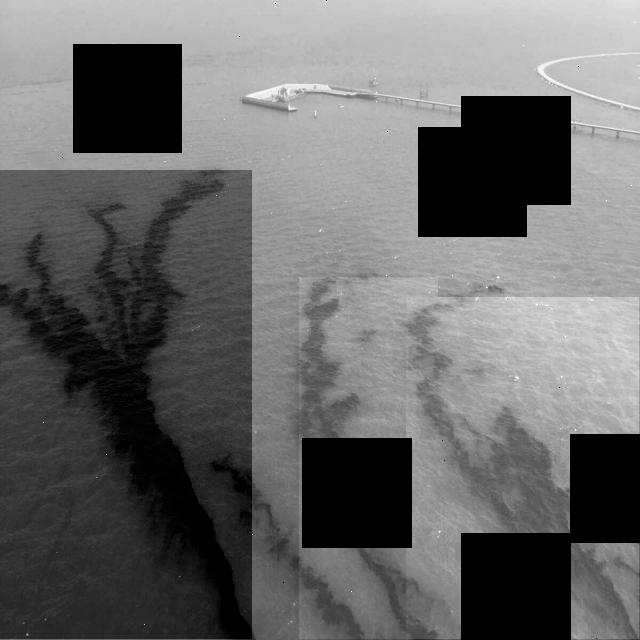oil_spillage: (0, 171, 252, 640), (407, 298, 639, 639), (299, 278, 438, 640)
